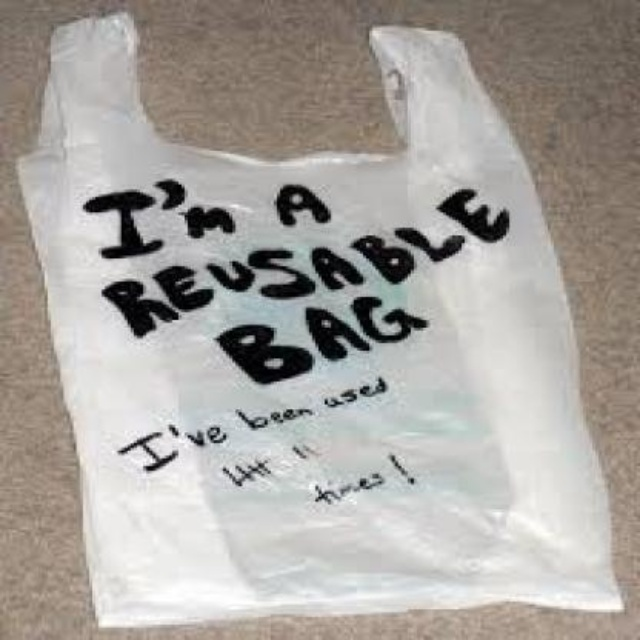trash: (18, 14, 622, 625)
